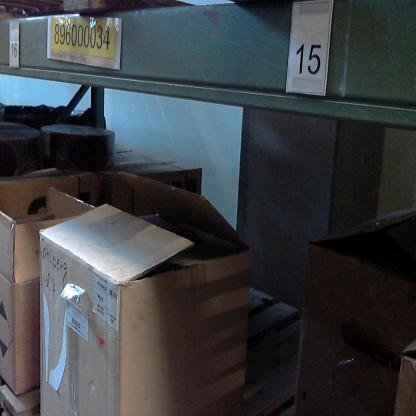pallet: (1, 271, 397, 413), (1, 1, 272, 18)
